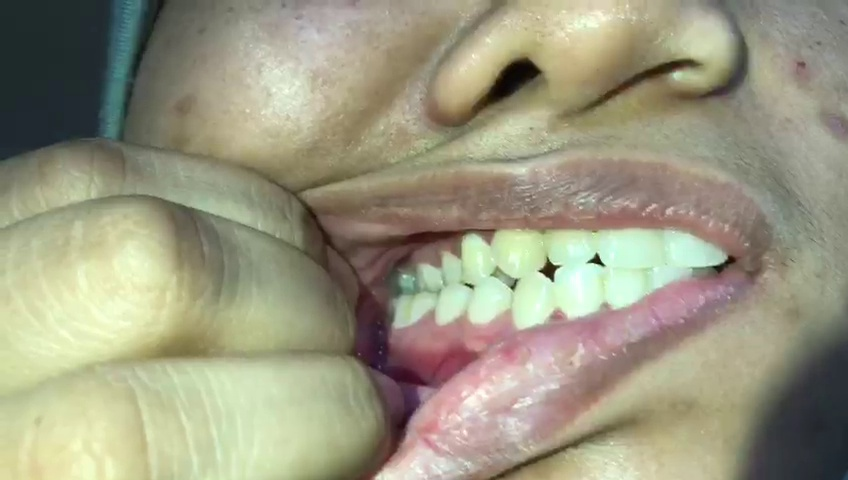1st Molar: (408, 294, 438, 328), (418, 258, 443, 291)
1st Premolar: (469, 279, 513, 327), (459, 232, 496, 288)
2nd Molar: (392, 292, 409, 333), (393, 268, 417, 292)
2nd Premolar: (435, 284, 470, 328), (438, 248, 465, 287)
Canine: (491, 227, 546, 277), (512, 271, 553, 329)
Lateral Incisor: (553, 264, 607, 319)
